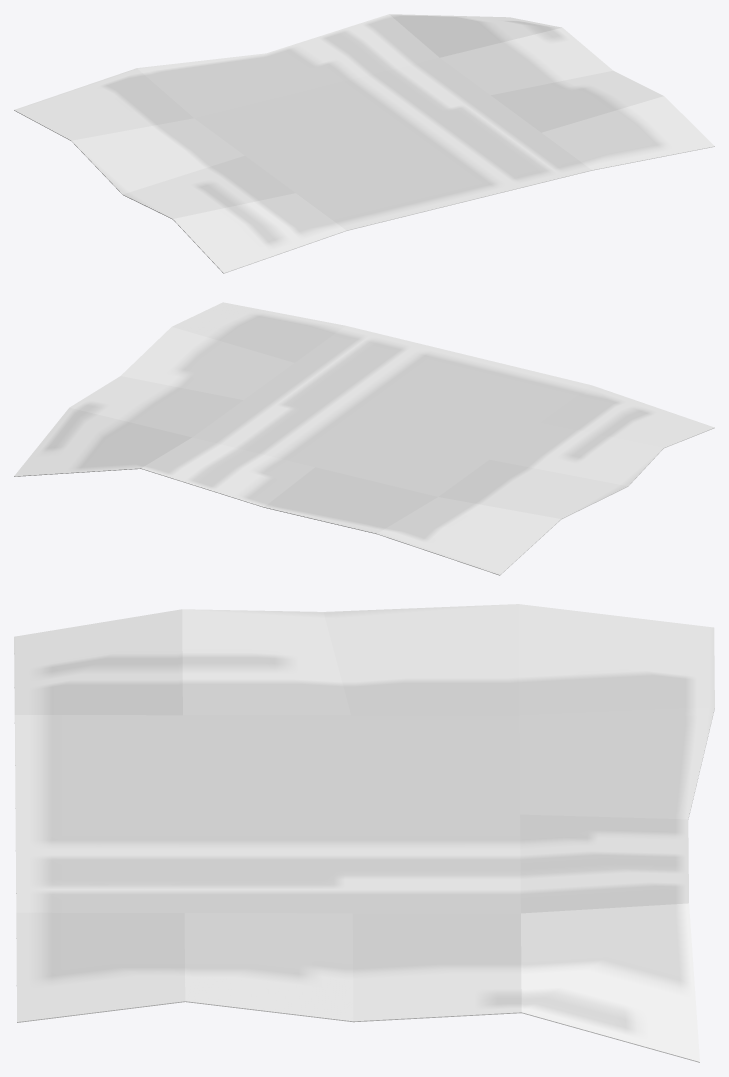
The model's file is Paper10.fbx.
3 renders of one model, top to bottom at view 1: azimuth 30°, elevation 25°; view 2: azimuth 150°, elevation 25°; view 3: azimuth 270°, elevation 25°, orthographic. The views are drawn at different scales.
Visible parts, largest first — view 1: Paper10; view 2: Paper10; view 3: Paper10.
Part boxes in pixels (bbox=[...]): Paper10: bbox=[14, 14, 714, 273]; Paper10: bbox=[14, 302, 714, 575]; Paper10: bbox=[14, 604, 714, 1062].
Size of the model in its own units: 0.3424 by 0.2518 by 0.0247.
